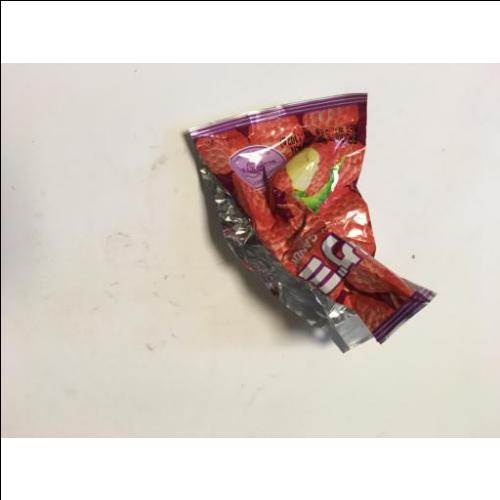plastic: (184, 89, 437, 354)
